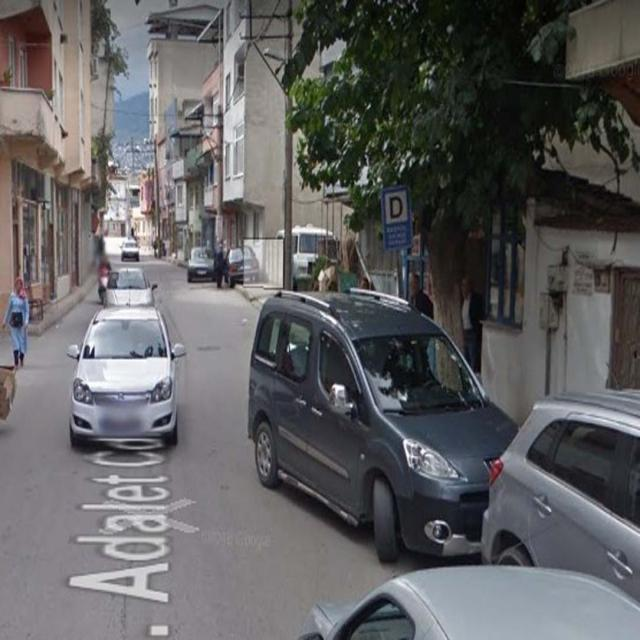durak: (381, 186, 411, 226)
